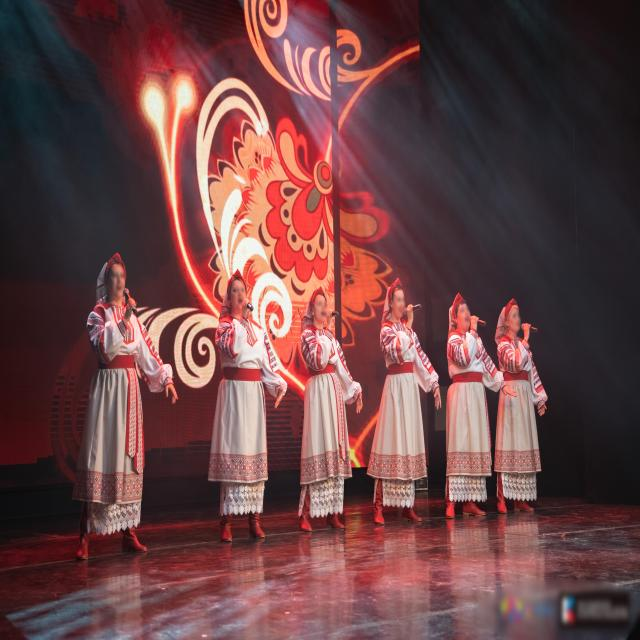Person: (80, 239, 160, 566), (207, 260, 279, 561), (364, 278, 433, 542), (294, 285, 356, 536), (497, 289, 549, 527), (444, 292, 493, 534)
